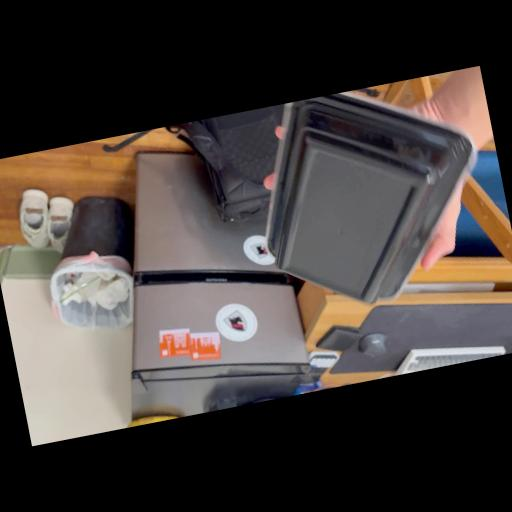rigid_plastic_container: (244, 70, 500, 320)
